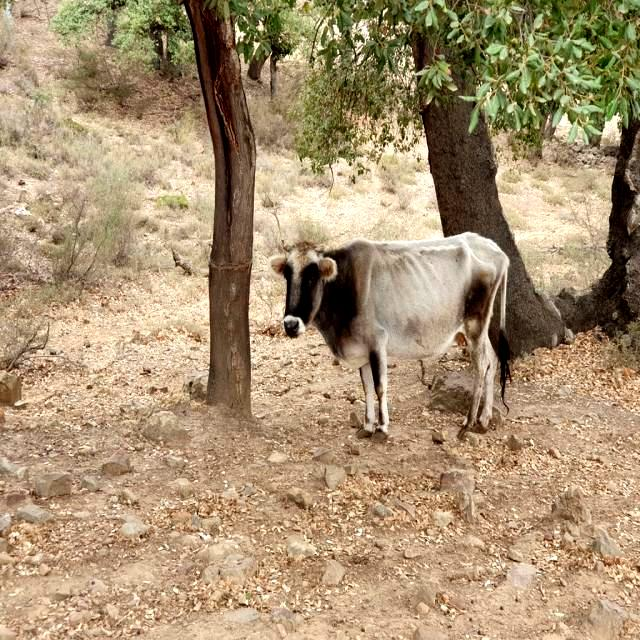COW: (272, 232, 510, 438)
